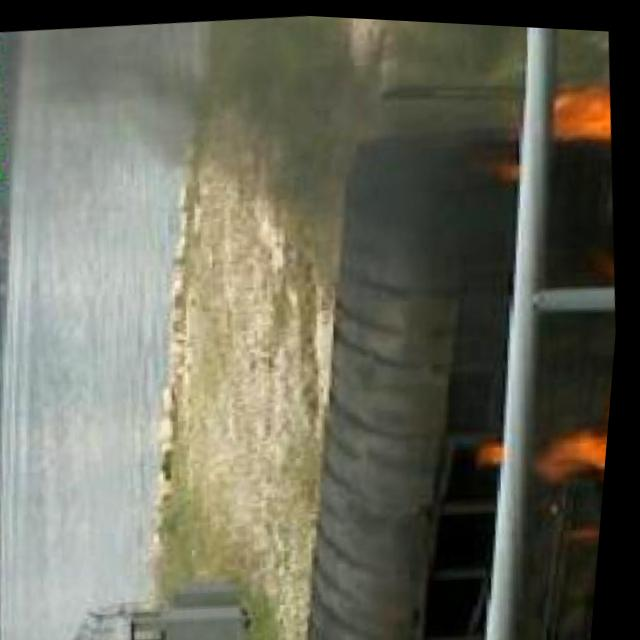Fire: (546, 377, 617, 637), (545, 23, 622, 175), (587, 243, 626, 365)
